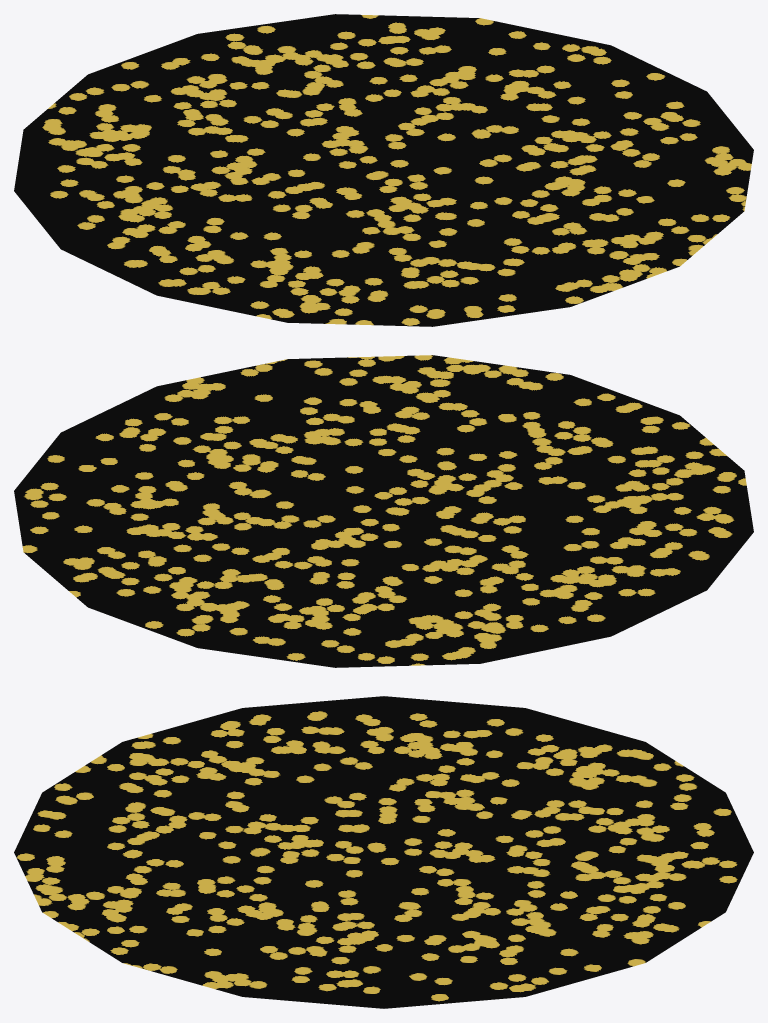
Rendered from TestTop1.fbx.
The picture shows the model from 3 angles, top to bottom: view 1: azimuth 30°, elevation 25°; view 2: azimuth 150°, elevation 25°; view 3: azimuth 270°, elevation 25°; orthographic projection.
Parts seen in each view (by area): view 1: Test top 1; view 2: Test top 1; view 3: Test top 1.
Boxes of the visible parts, x1,y1,x2,y2 form: Test top 1: (14, 14, 753, 326); Test top 1: (14, 355, 753, 667); Test top 1: (14, 696, 753, 1008).
Size of the model in its own units: 189 by 0.00137 by 189.
